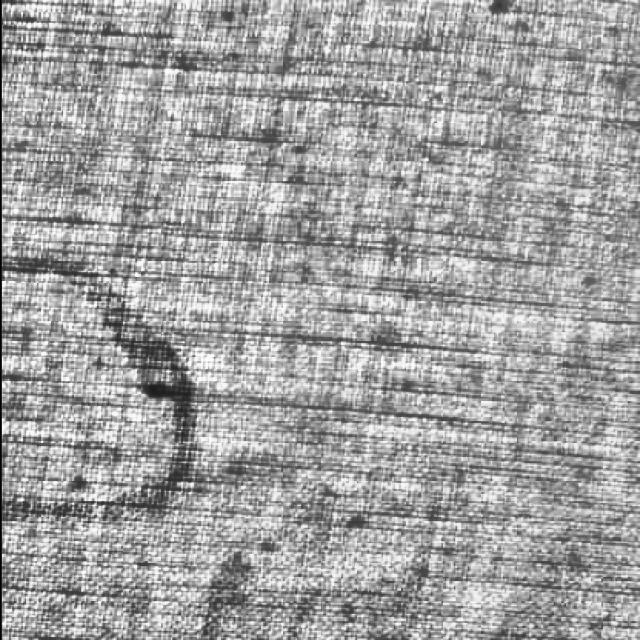oil_spot: (3, 238, 210, 540)
